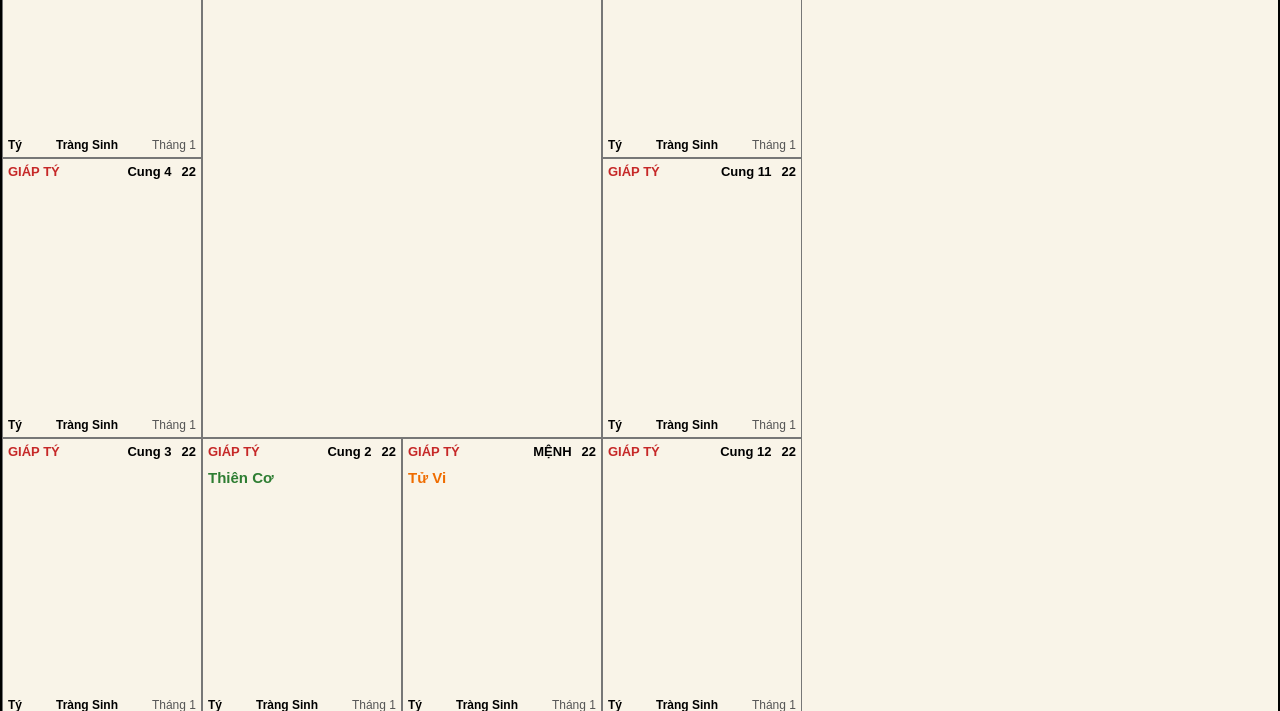
opens loading immediately, cancels on close and cannot reopen from its delayed result
(page scrolled)
What coordinates should you click on to do the following:
click the button "Tử Vi"
I would click on:
 (427, 478)
Its box is [408,469,446,486].
(page scrolled)
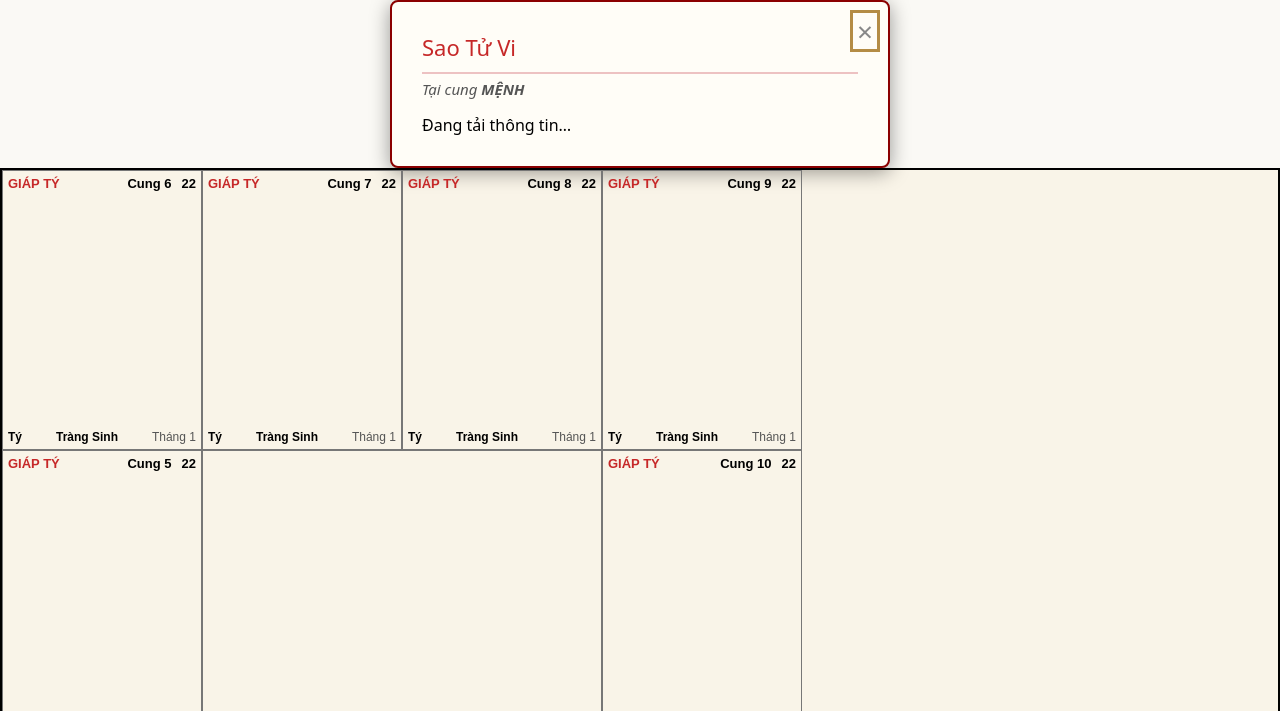
Check: the dialog "Sao Tử Vi" is shown, box [390,0,890,168]
Check: the message shows "Đang tải thông tin", box [422,114,571,136]
What coordinates should you click on to do the following:
click the button named "Đóng thông tin"
I would click on:
 (865, 31)
Its box is [857,17,873,45].
(page scrolled)
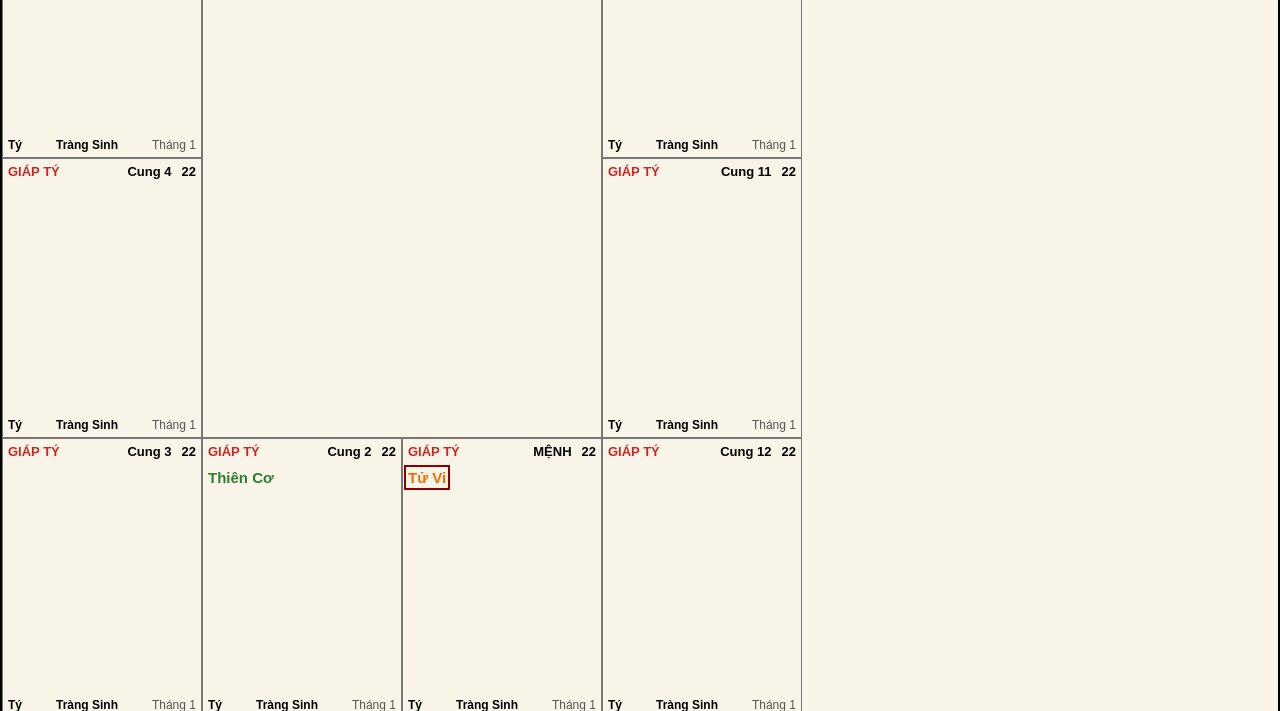
Check: the dialog is gone
